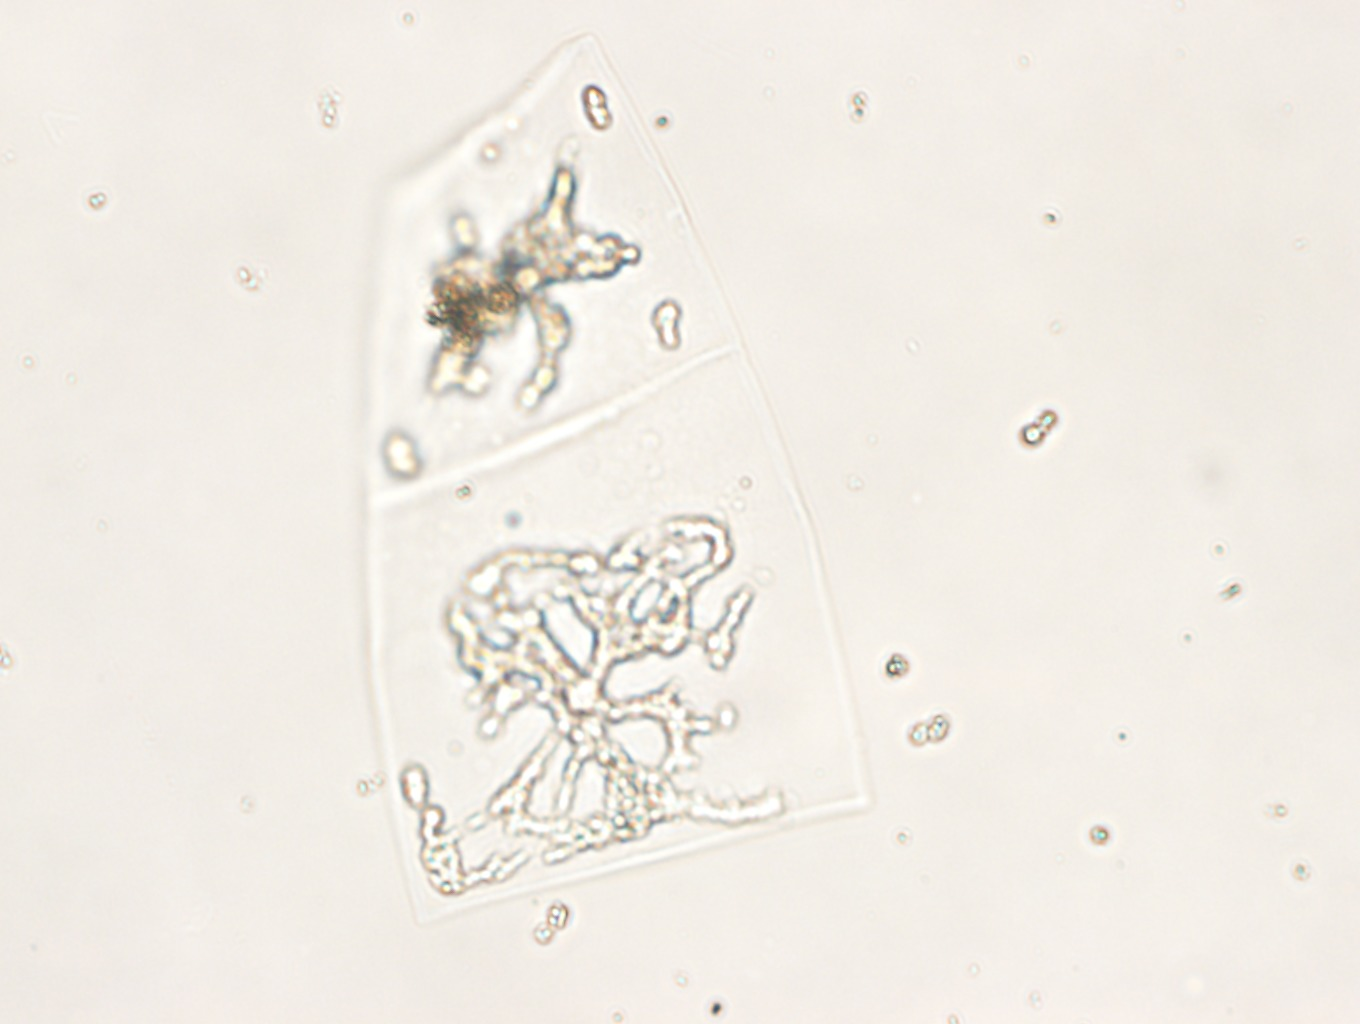helicotheca: (361, 29, 876, 926)
